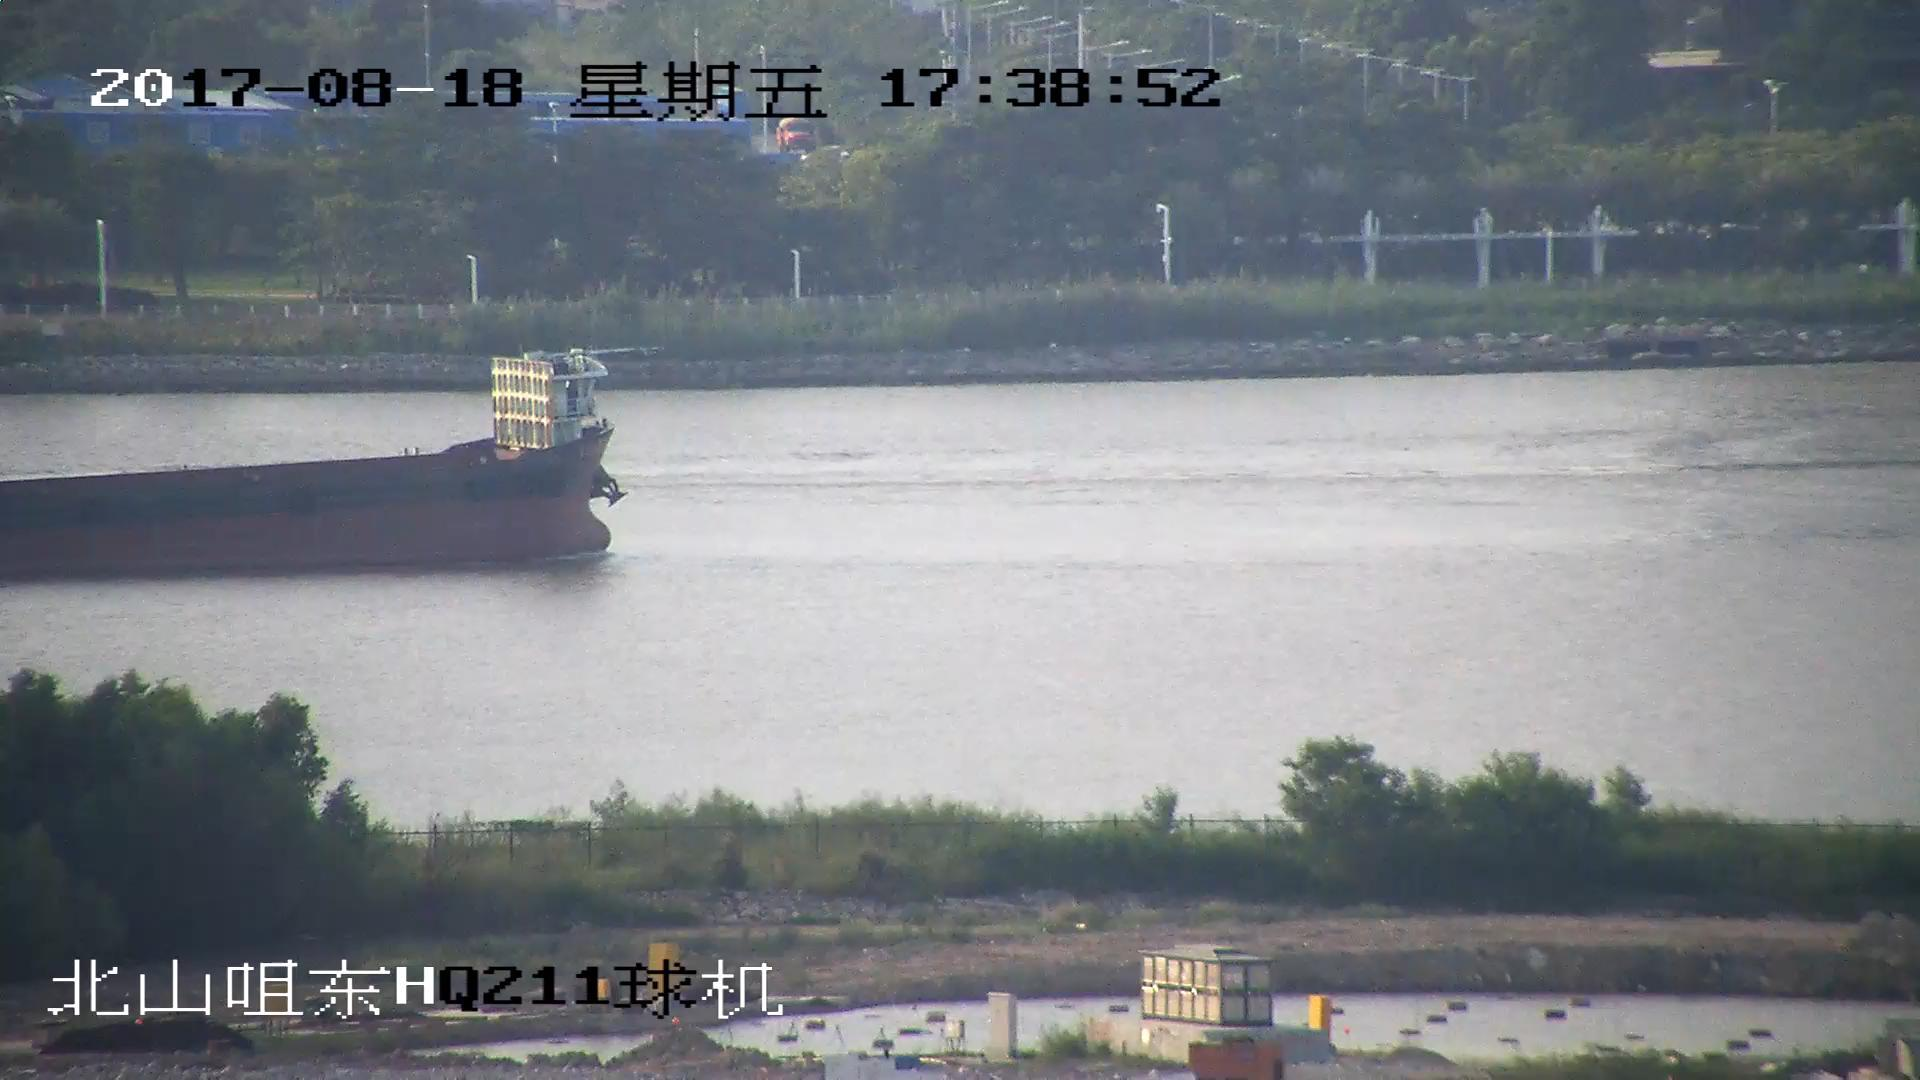Ship: (3, 355, 632, 568)
